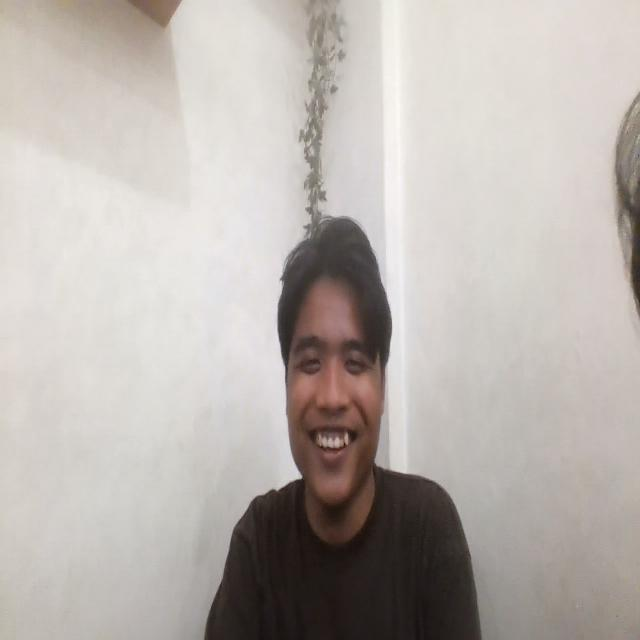sem_oculos: (279, 323, 396, 389)
